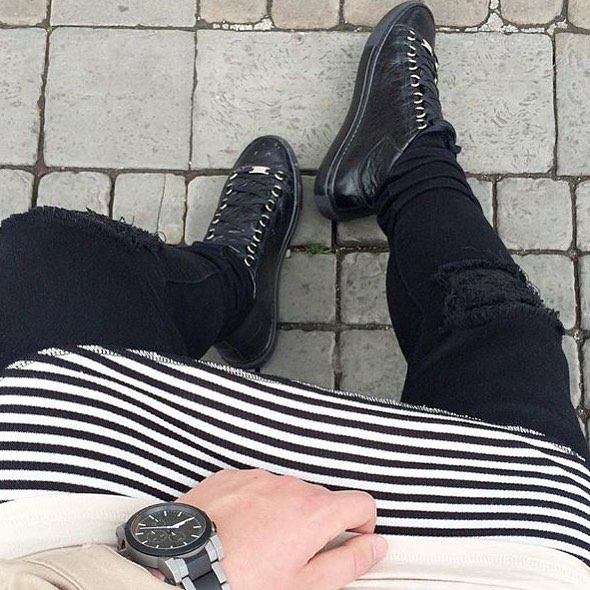sneaker: (298, 1, 469, 230), (204, 124, 311, 382)
